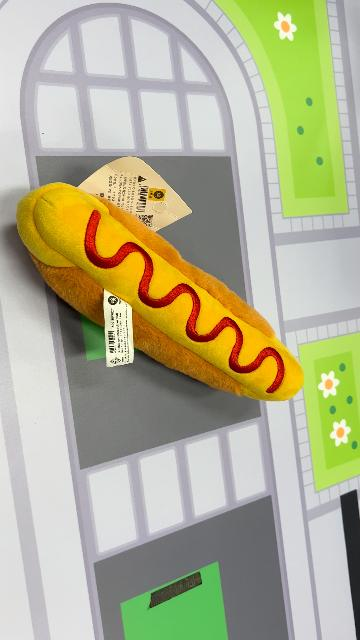hotdog: (16, 180, 306, 404)
